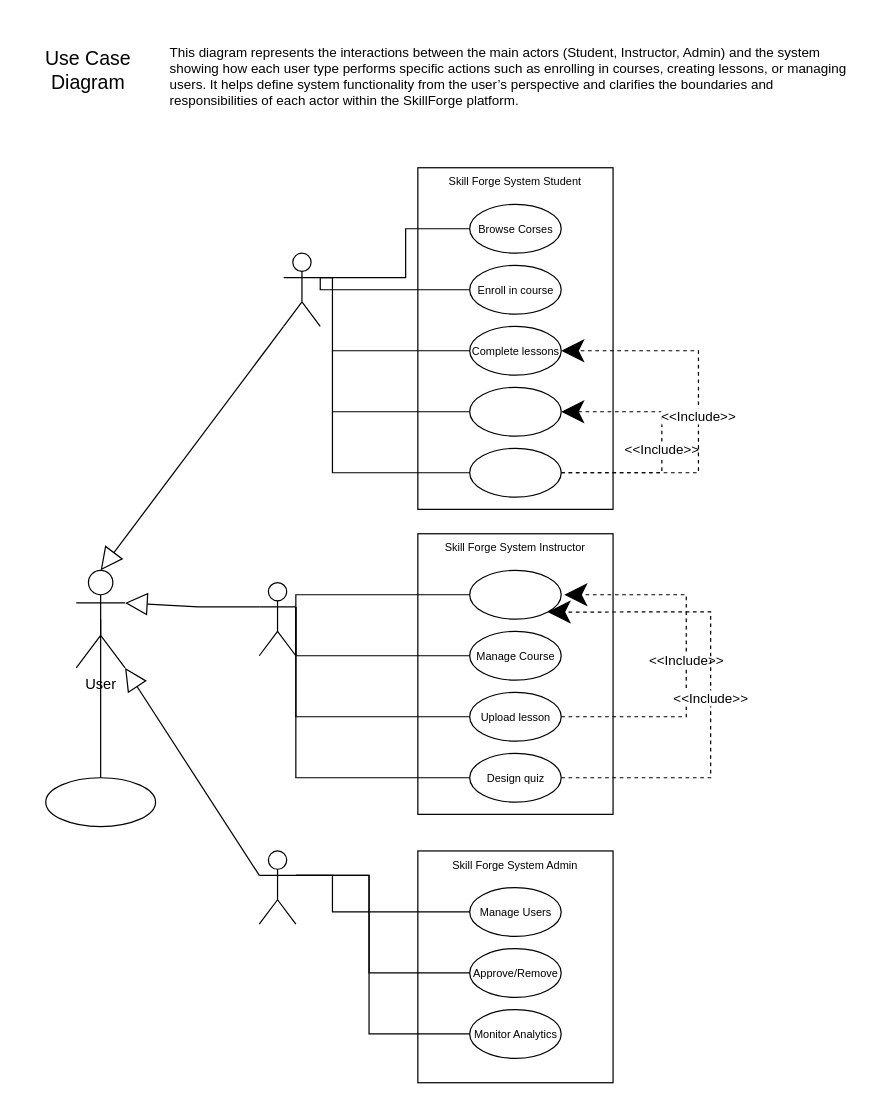
Image size: 871x1104. Some labels were removed from this diagram. Each missing label, with the centre of its shape:
Admin: [277,887]
Create course: [514,594]
Earn Certification: [514,472]
Instructor: [277,618]
Login: [100,802]
Student: [301,289]
Take quiz: [514,411]
